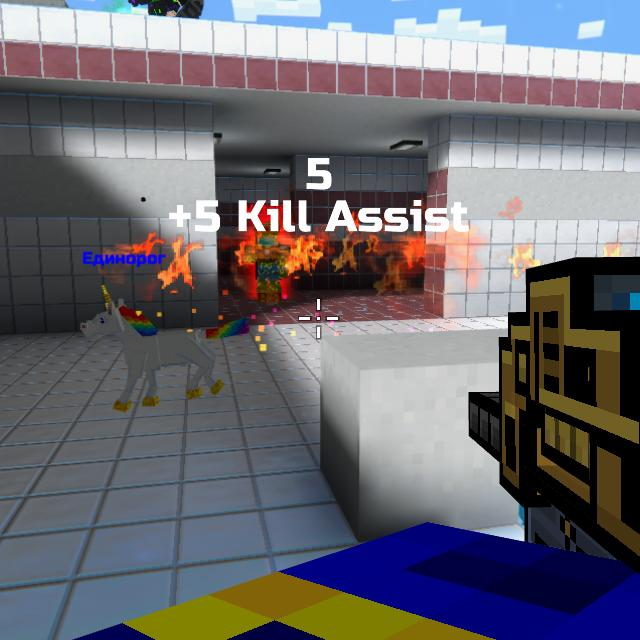Enemy: (243, 224, 289, 300)
